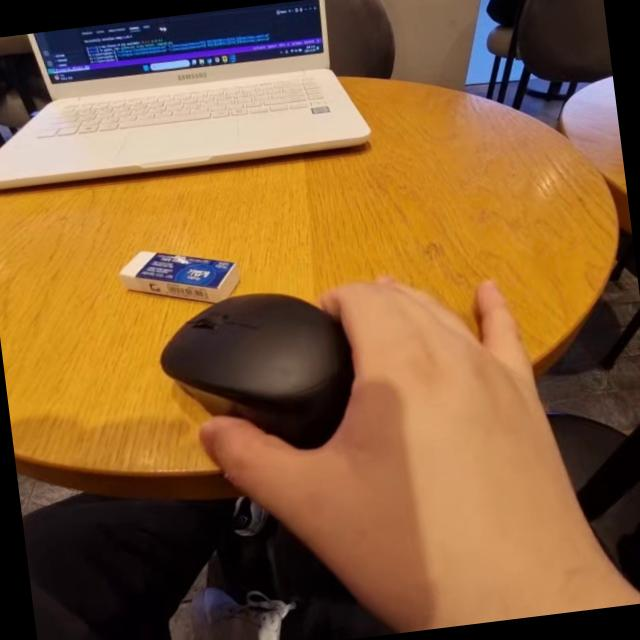eraser: (122, 236, 248, 311)
grab_mouse: (152, 252, 618, 608)
hand: (288, 242, 596, 613)
mouse: (146, 274, 364, 442)
